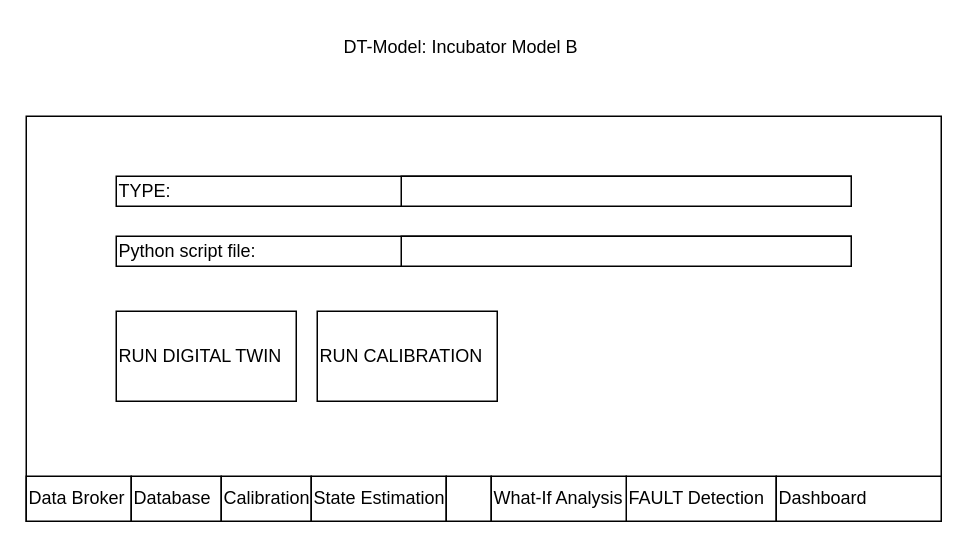
This 968x548 diagram has some shape labels left out. Each missing label, with the centre of its shape:
DSE: the point at 468,498
Path to python script: the point at 625,250
Python: the point at 625,190
